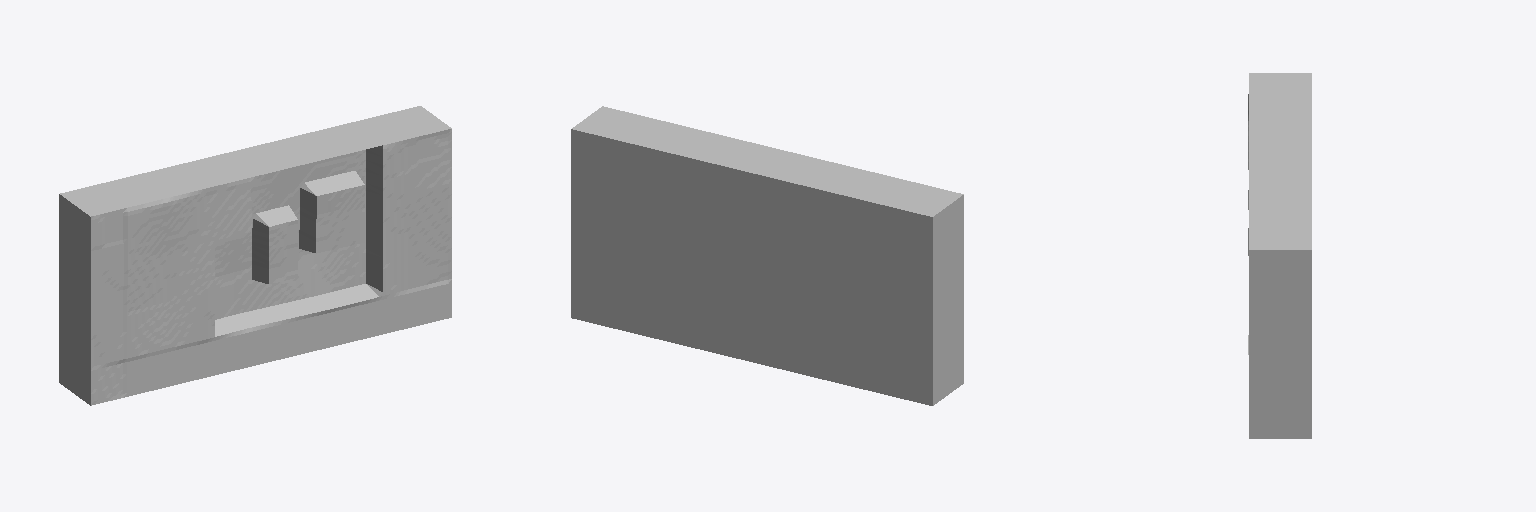
File: rectangular_prism_bumps_4_8.obj
3 views of the same model, side by side, from view 1: azimuth 30°, elevation 25°; view 2: azimuth 150°, elevation 25°; view 3: azimuth 270°, elevation 25° (orthographic).
Bounding box in the file's own units: 10 × 5 × 1.53.